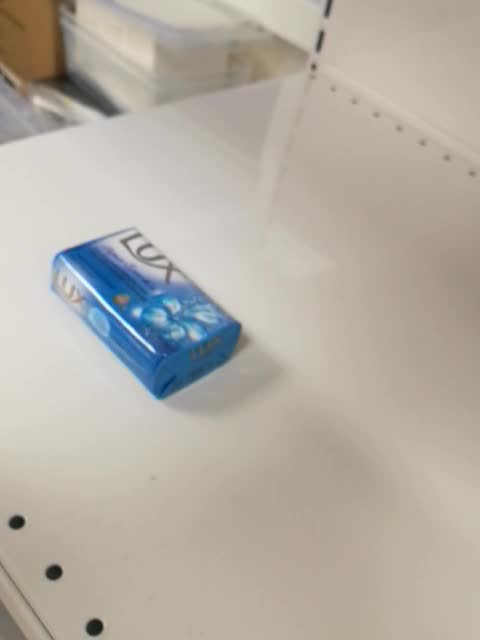soap: (49, 224, 243, 401)
